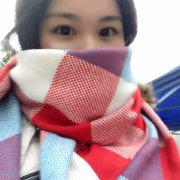WRONG: (35, 11, 126, 96)
